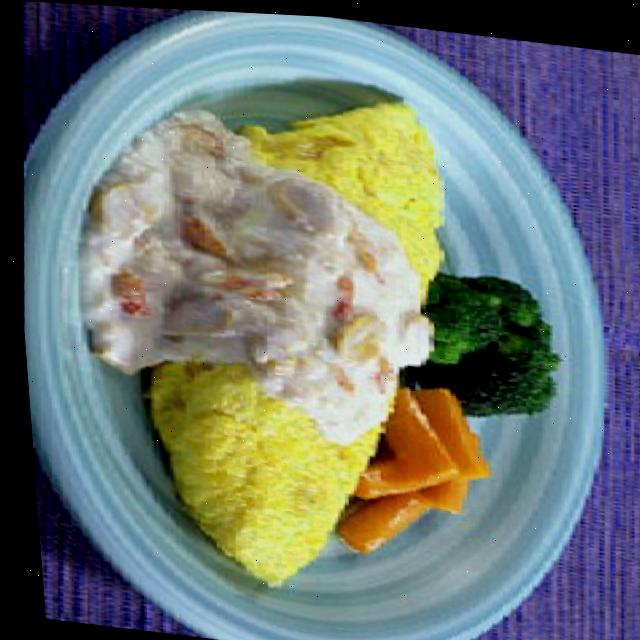鸡蛋料理: (70, 9, 485, 640)
